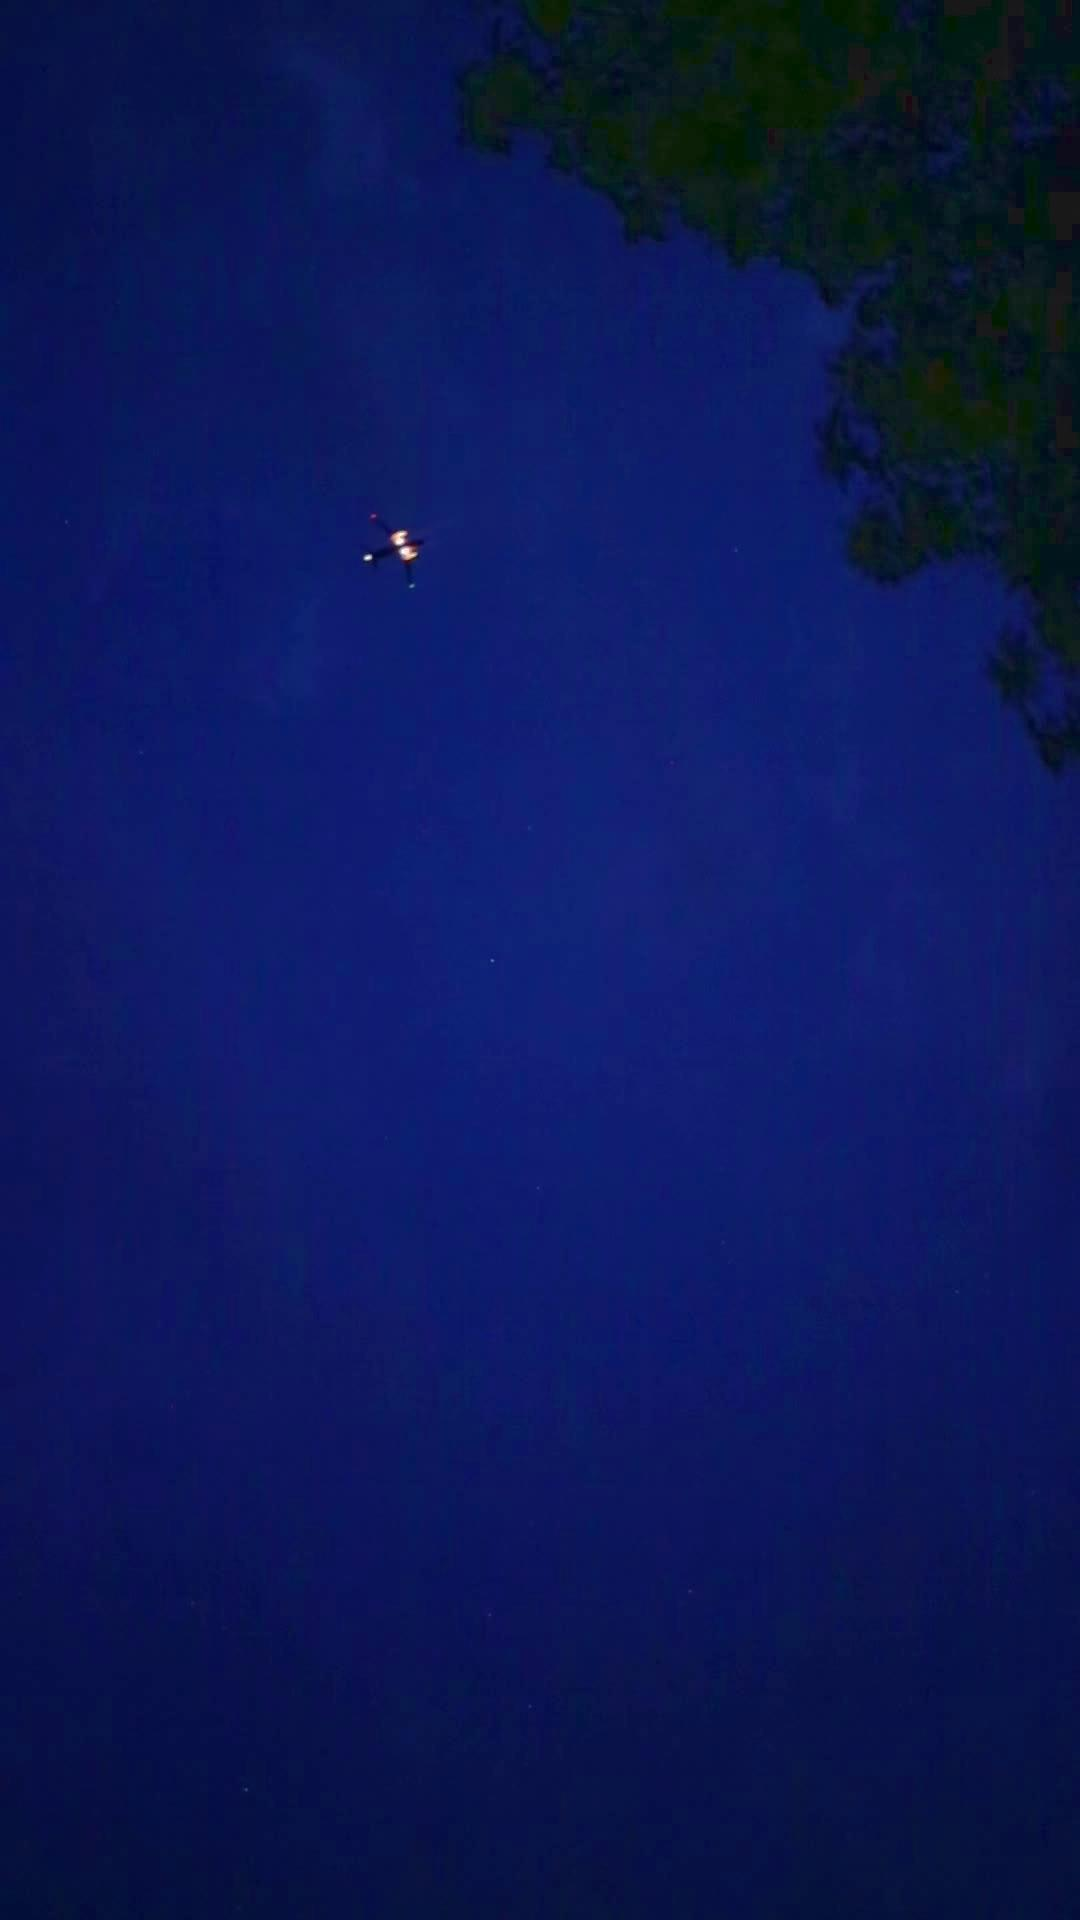Plane: (345, 498, 447, 588)
